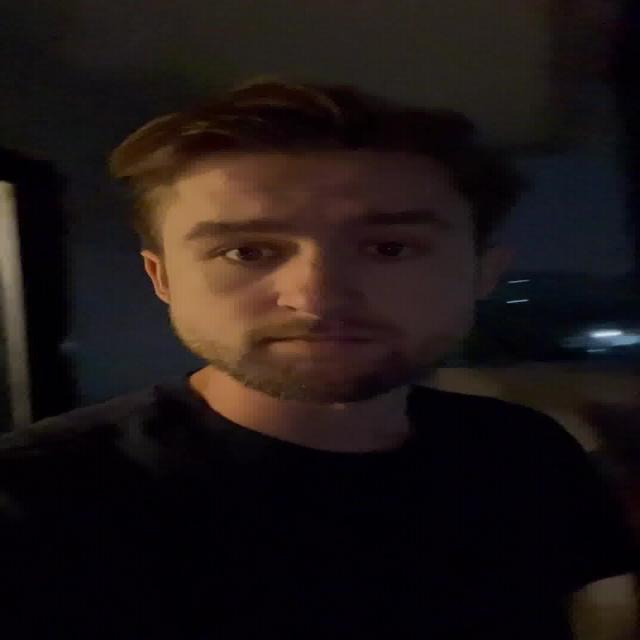earlobe: (472, 279, 493, 301), (152, 283, 172, 304)
eye: (217, 246, 282, 262), (360, 242, 421, 259)
nose: (277, 305, 366, 336)
wholeear: (472, 248, 512, 301), (139, 250, 172, 304)
